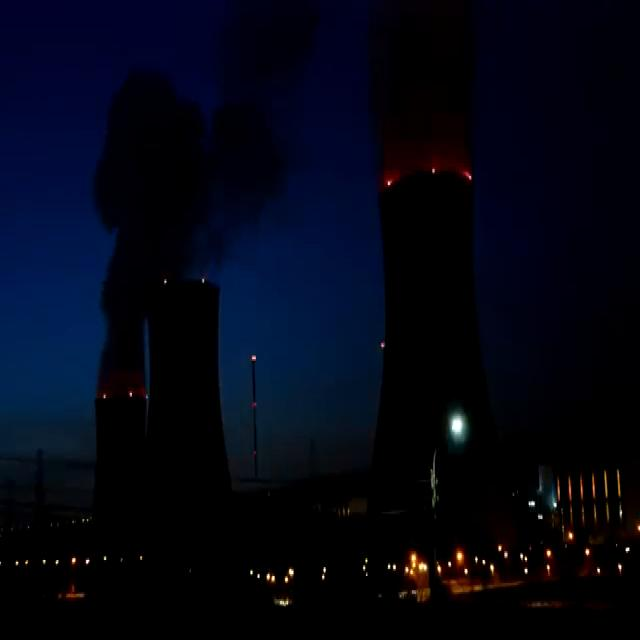smoke: (99, 4, 288, 396), (370, 0, 474, 190)
